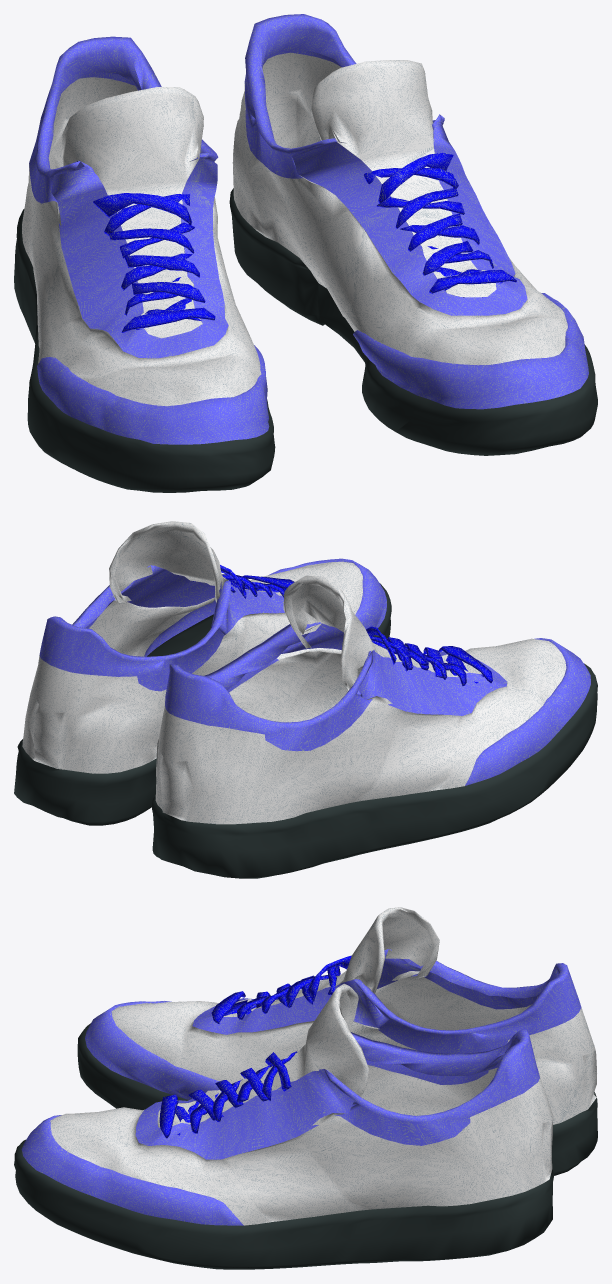
3 views of the same model, one above another, from view 1: azimuth 30°, elevation 25°; view 2: azimuth 150°, elevation 25°; view 3: azimuth 270°, elevation 25° (orthographic). The views are drawn at different scales.
Parts seen in each view (by area): view 1: gold (×4), shoe02 (×2), sole01 (×2), tongue01 (×8), lace_end01 (×12); view 2: shoe02 (×2), gold (×4), sole01 (×2), tongue01 (×2), lace_end01; view 3: shoe02 (×2), gold (×4), sole01 (×2), tongue01 (×3), lace_end01.
Part boxes in pixels (x1,y1,x2,y2): gold (×4): (29,14,588,444); shoe02 (×2): (22,52,567,406); sole01 (×2): (14,180,597,492); tongue01 (×8): (61,60,496,334); lace_end01 (×12): (93,153,516,332); shoe02 (×2): (22,561,566,824); gold (×4): (39,558,590,785); sole01 (×2): (14,583,597,878); tongue01 (×2): (109,521,377,690); lace_end01: (438,646,492,683); shoe02 (×2): (50,971,596,1225); gold (×4): (21,949,581,1225); sole01 (×2): (14,1023,597,1269); tongue01 (×3): (159,907,439,1125); lace_end01: (159,1094,178,1138).
Size of the model in its own units: 9.32 by 11.58 by 5.21.
